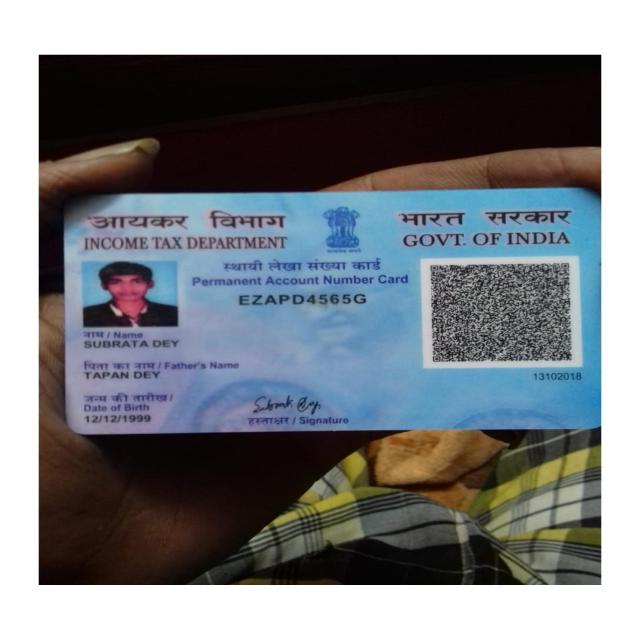pan_card: (66, 190, 599, 431)
